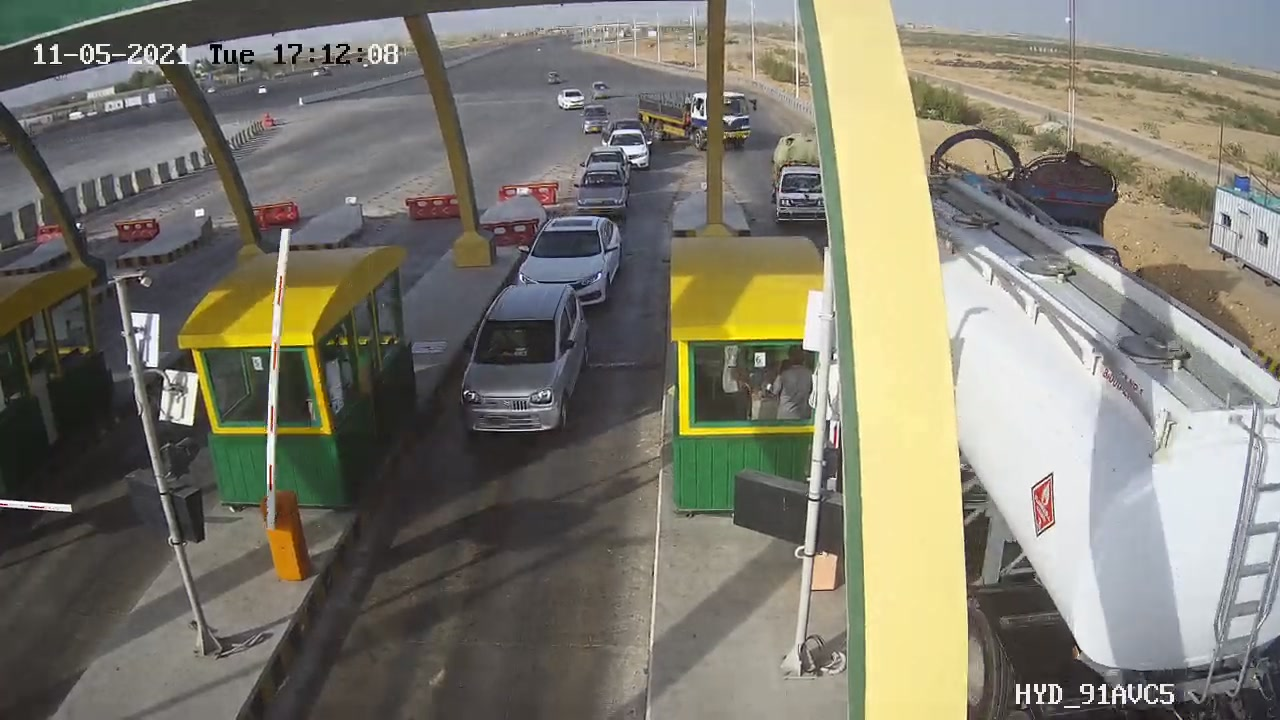F1: (442, 274, 608, 448), (504, 204, 637, 326)
